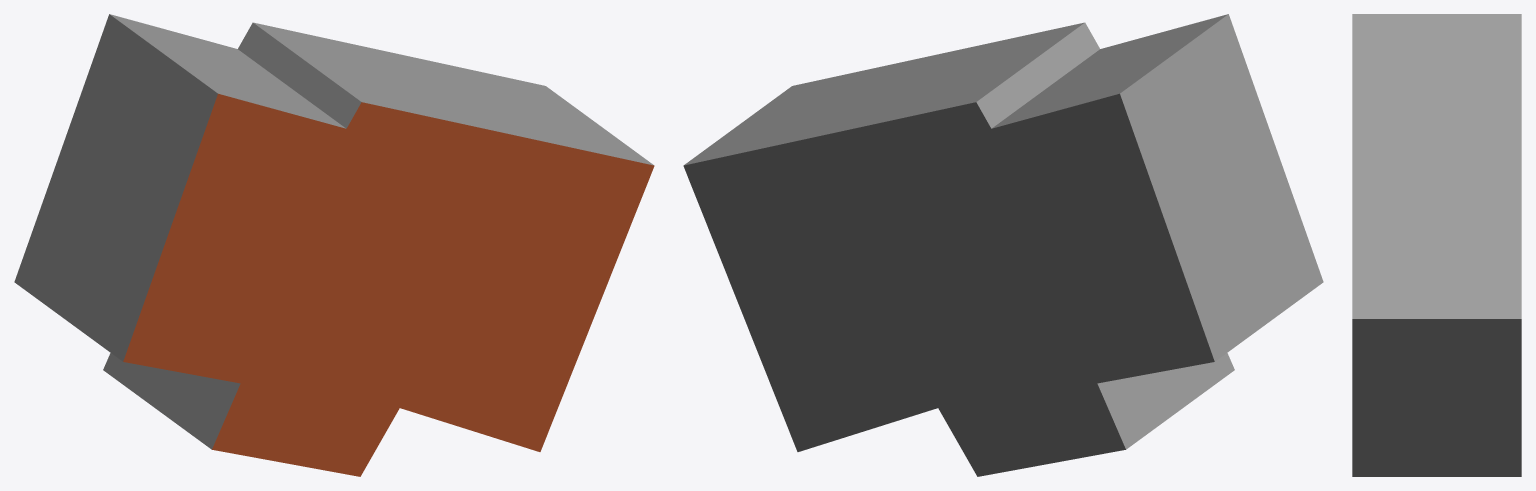
The model's file is construction_2377_assumed_A_Casa_h6m.obj.
The picture shows the model from 3 angles, left to right: view 1: azimuth 30°, elevation 25°; view 2: azimuth 150°, elevation 25°; view 3: azimuth 270°, elevation 25°; orthographic projection. The views are drawn at different scales.
Parts seen in each view (by area): view 1: construction_2377_assumed_A_Casa; view 2: construction_2377_assumed_A_Casa; view 3: construction_2377_assumed_A_Casa.
Boxes of the visible parts, box(x1,y1,x2,y2) form: construction_2377_assumed_A_Casa: box(14, 14, 654, 476); construction_2377_assumed_A_Casa: box(683, 14, 1323, 476); construction_2377_assumed_A_Casa: box(1352, 14, 1521, 476).
Bounding box in the file's own units: 16.91 × 13.3 × 6.
